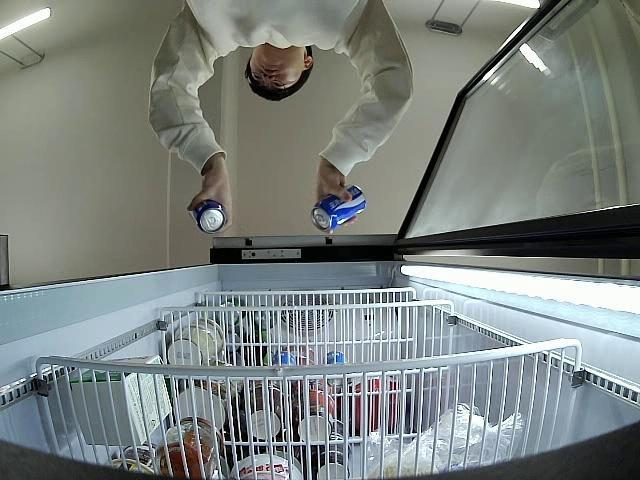13_pocariSweat: (313, 184, 366, 234), (190, 199, 224, 232)
